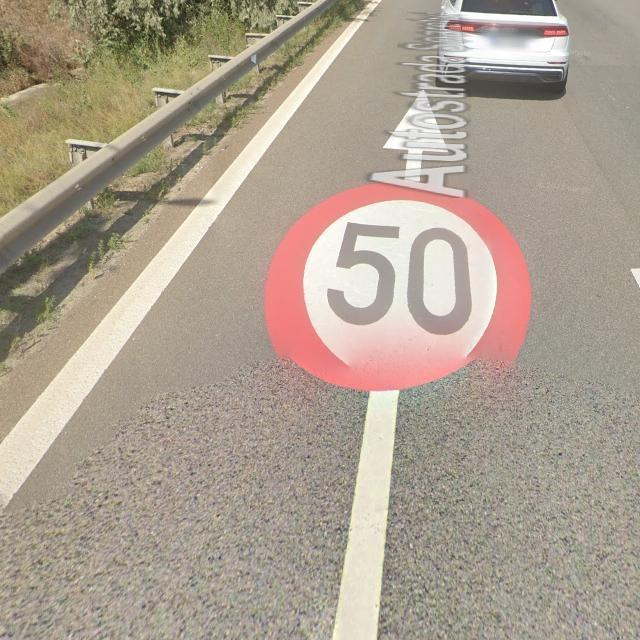forb_speed_over_50: (265, 181, 533, 394)
